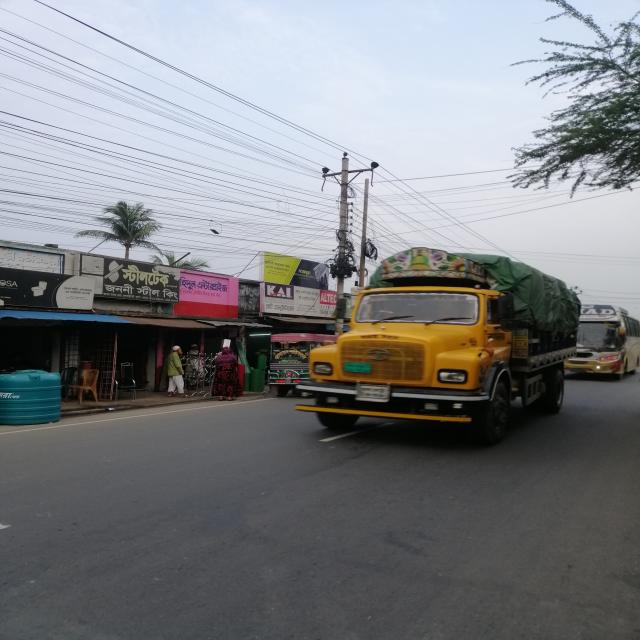Truck: (284, 244, 599, 445)
